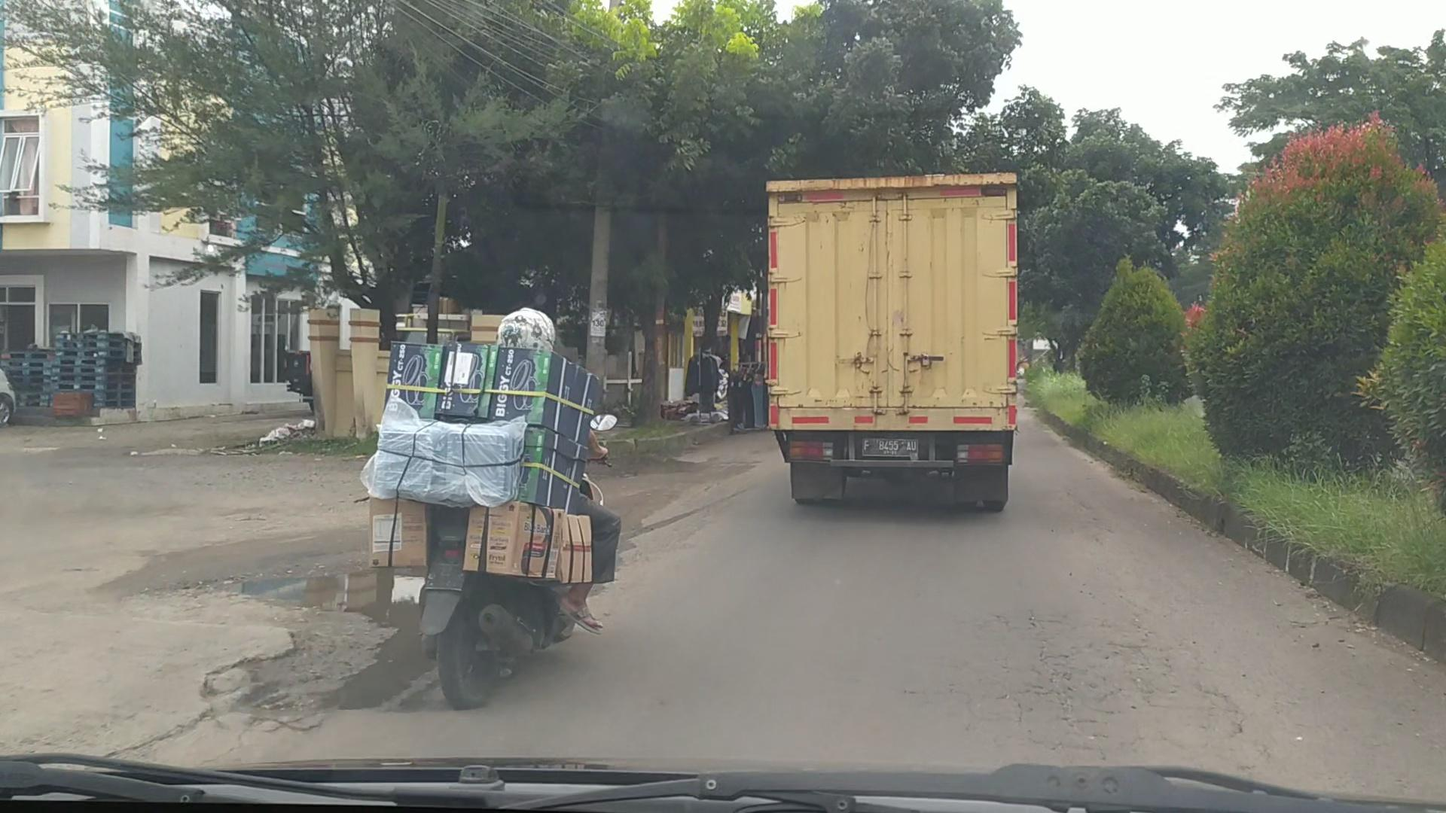pothole: (233, 571, 440, 710)
